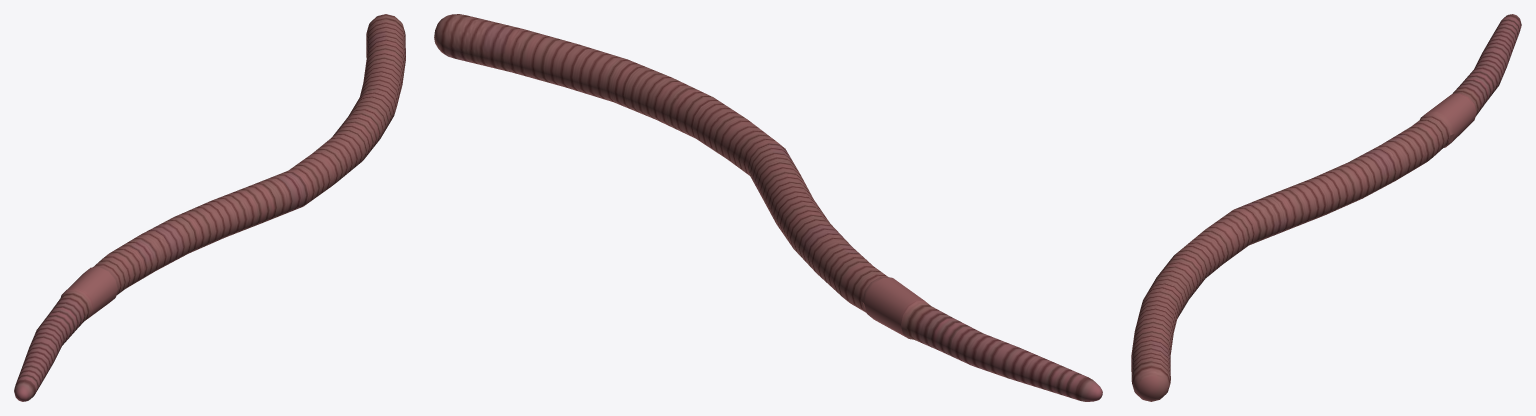
Rendered from earth_worm.fbx.
3 renders of one model, left to right at view 1: azimuth 90°, elevation 25°; view 2: azimuth 150°, elevation 25°; view 3: azimuth 270°, elevation 25°, orthographic. The views are drawn at different scales.
Parts seen in each view (by area): view 1: earth_worm:earth_worm:earth_worm; view 2: earth_worm:earth_worm:earth_worm; view 3: earth_worm:earth_worm:earth_worm.
Part boxes in pixels (x1,y1,x2,y2): earth_worm:earth_worm:earth_worm: (14, 14, 405, 401); earth_worm:earth_worm:earth_worm: (434, 14, 1102, 401); earth_worm:earth_worm:earth_worm: (1131, 14, 1521, 401).
Size of the model in its own units: 83.36 by 3.85 by 37.04.
1 material, 1 textured.
